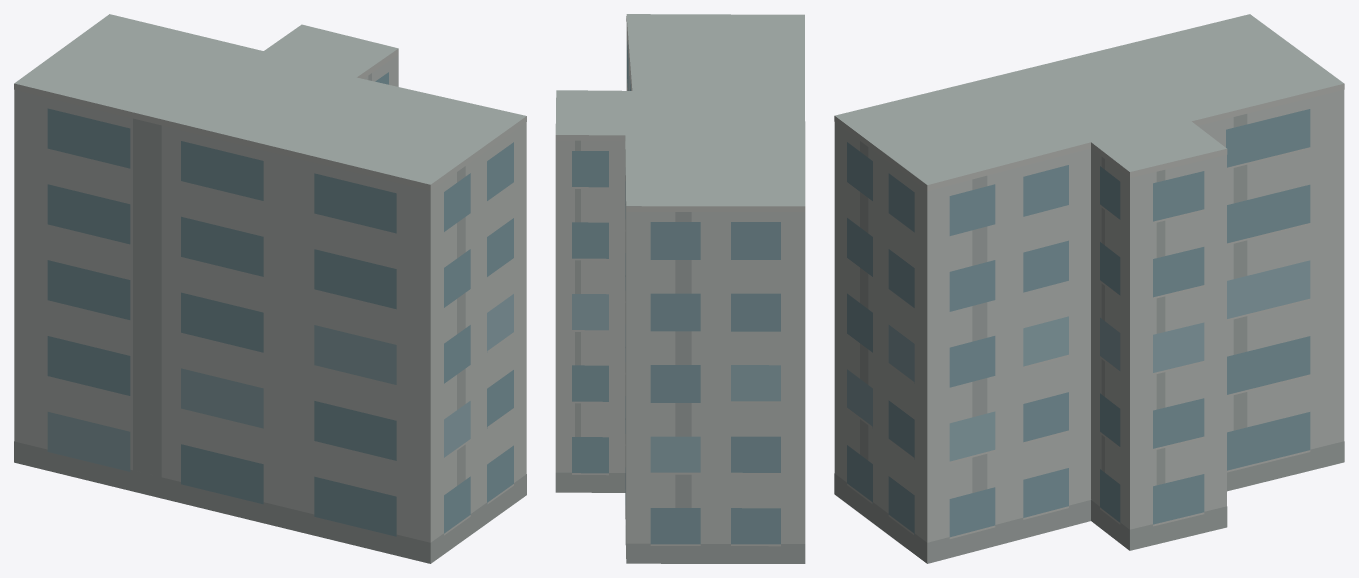
File: survey-upis-32804428.glb
3 renders of one model, left to right at view 1: azimuth 30°, elevation 25°; view 2: azimuth 150°, elevation 25°; view 3: azimuth 270°, elevation 25°, orthographic. The views are drawn at different scales.
Parts seen in each view (by area): view 1: survey-upis-32804428.tmp; view 2: survey-upis-32804428.tmp; view 3: survey-upis-32804428.tmp.
Part boxes in pixels (left/top/right/bottom): survey-upis-32804428.tmp: left=14, top=14, right=526, bottom=563; survey-upis-32804428.tmp: left=555, top=14, right=805, bottom=563; survey-upis-32804428.tmp: left=834, top=14, right=1344, bottom=563.
Size of the model in its own units: 14.69 by 15.15 by 18.5.
